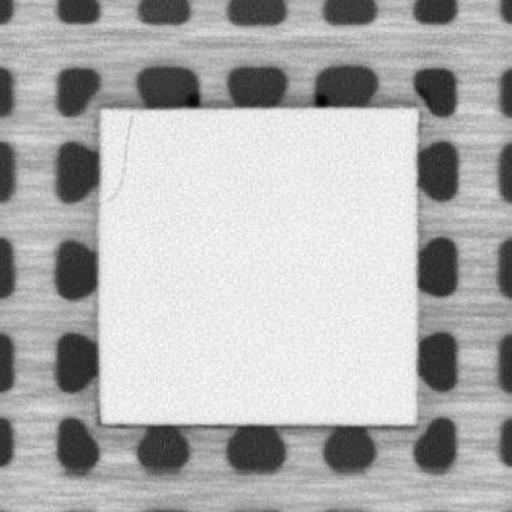DIE_CRACK: (102, 112, 132, 200)
